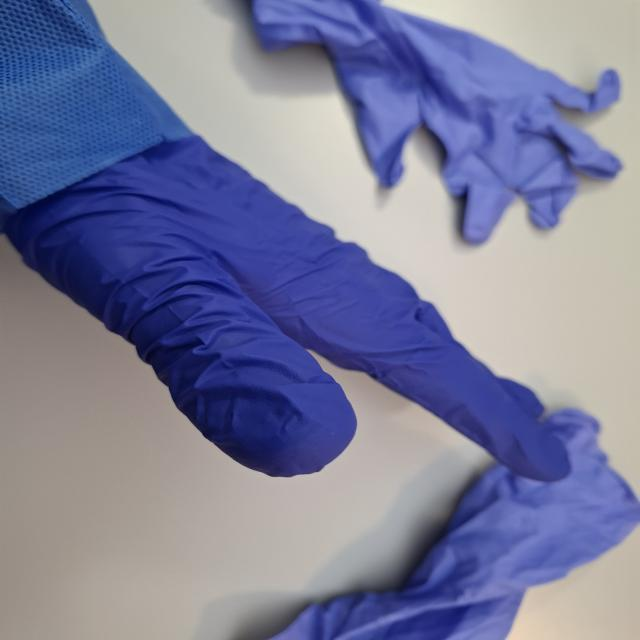glove_on: (0, 132, 575, 486)
